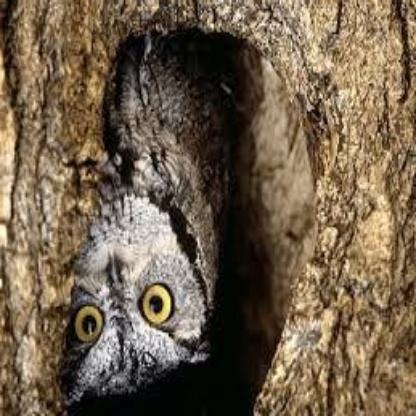Owl: (71, 51, 223, 383)
